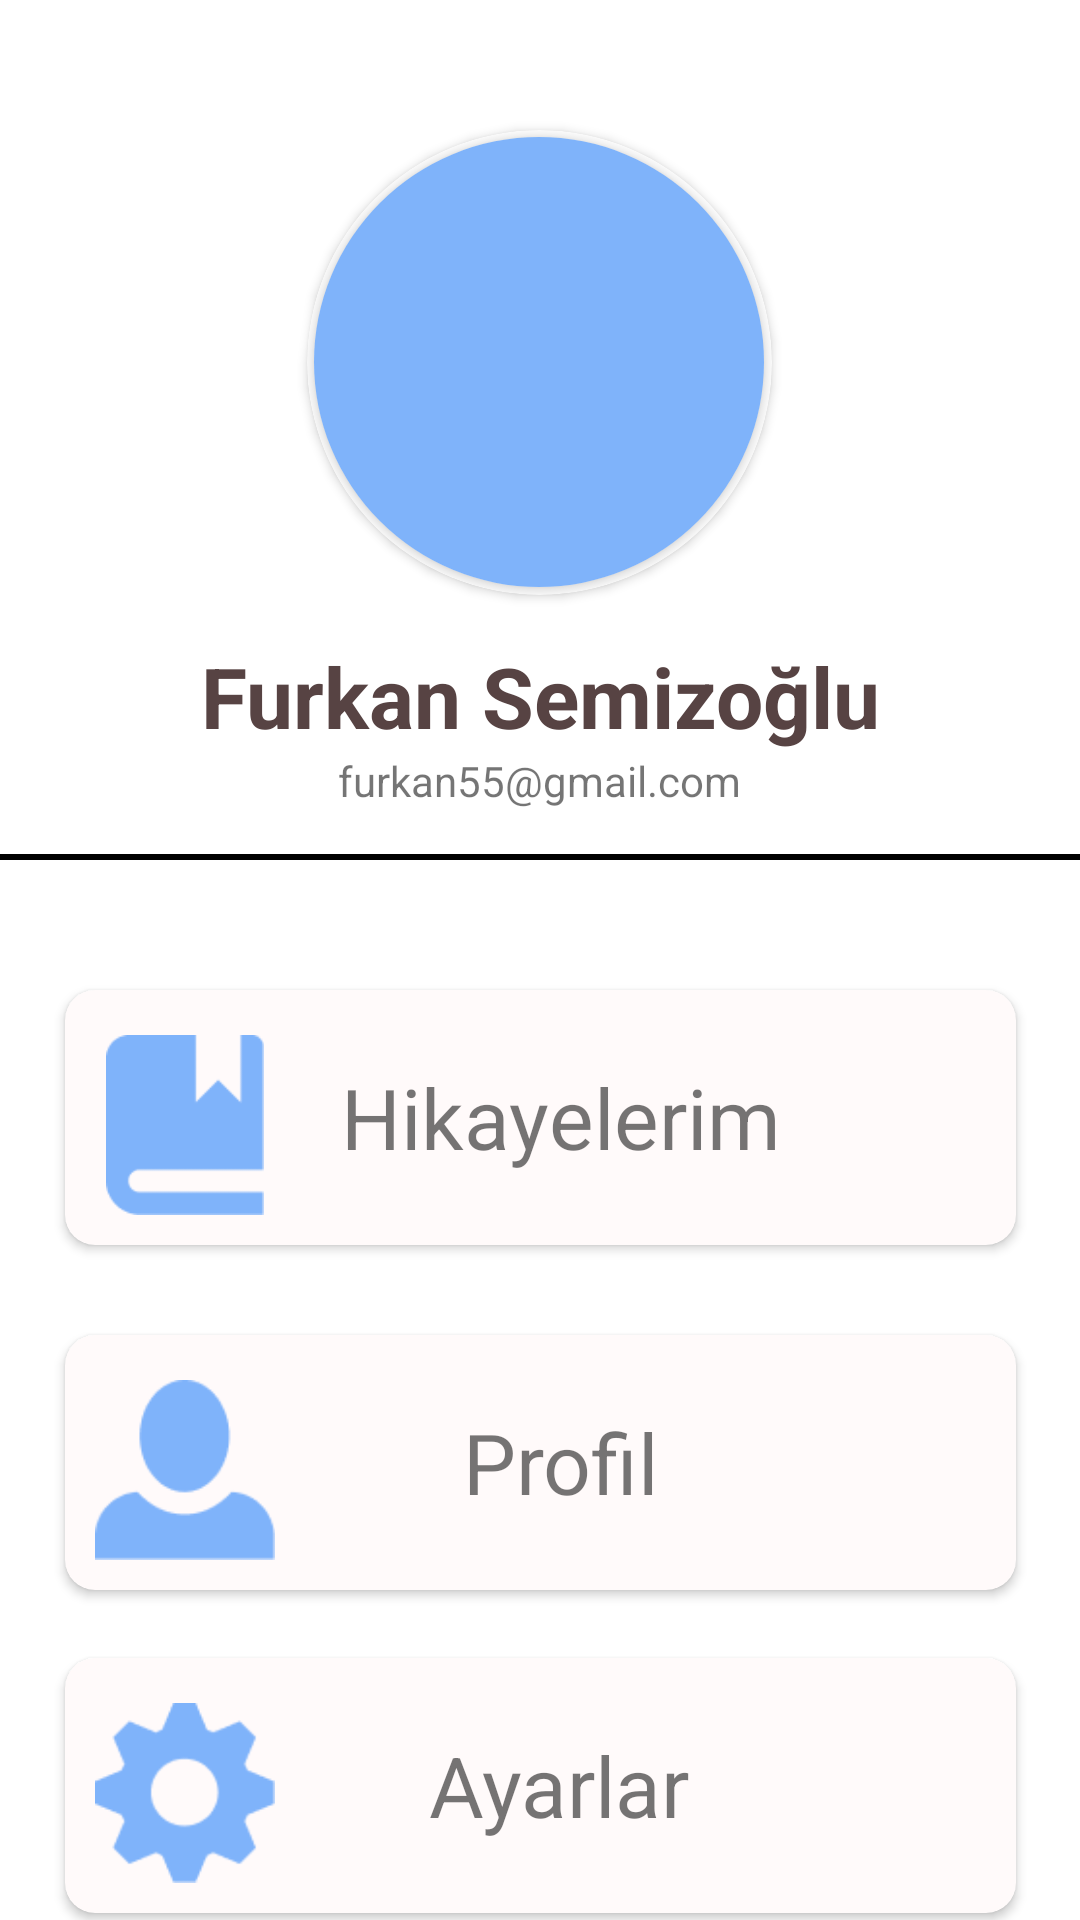

Point at icon controls on the screen. Image size 1080x1920, points as point (x, y).
book: point (185, 1125)
profile: point (185, 1470)
settings: point (185, 1793)
